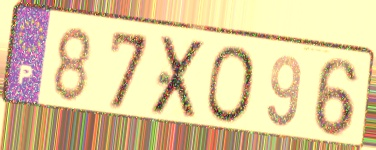6: (310, 56, 361, 141)
7: (107, 28, 150, 113)
8: (49, 24, 96, 105)
9: (265, 52, 304, 130)
O: (205, 43, 259, 127)
X: (147, 34, 210, 122)
